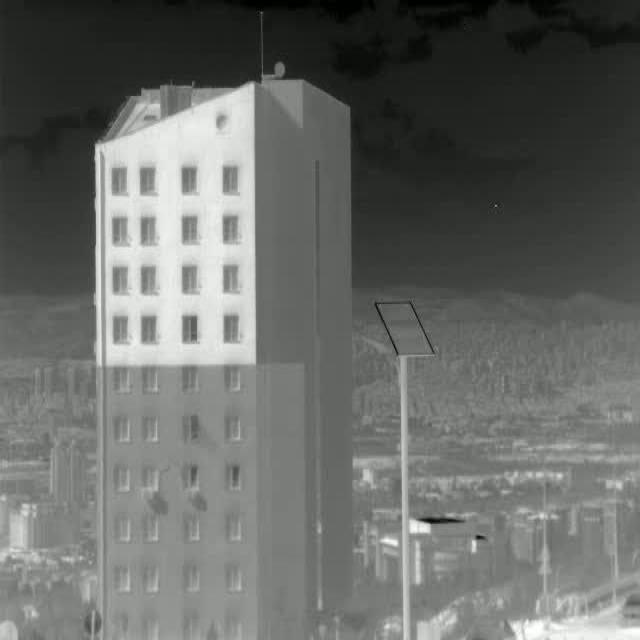Car: (620, 590, 640, 630)
